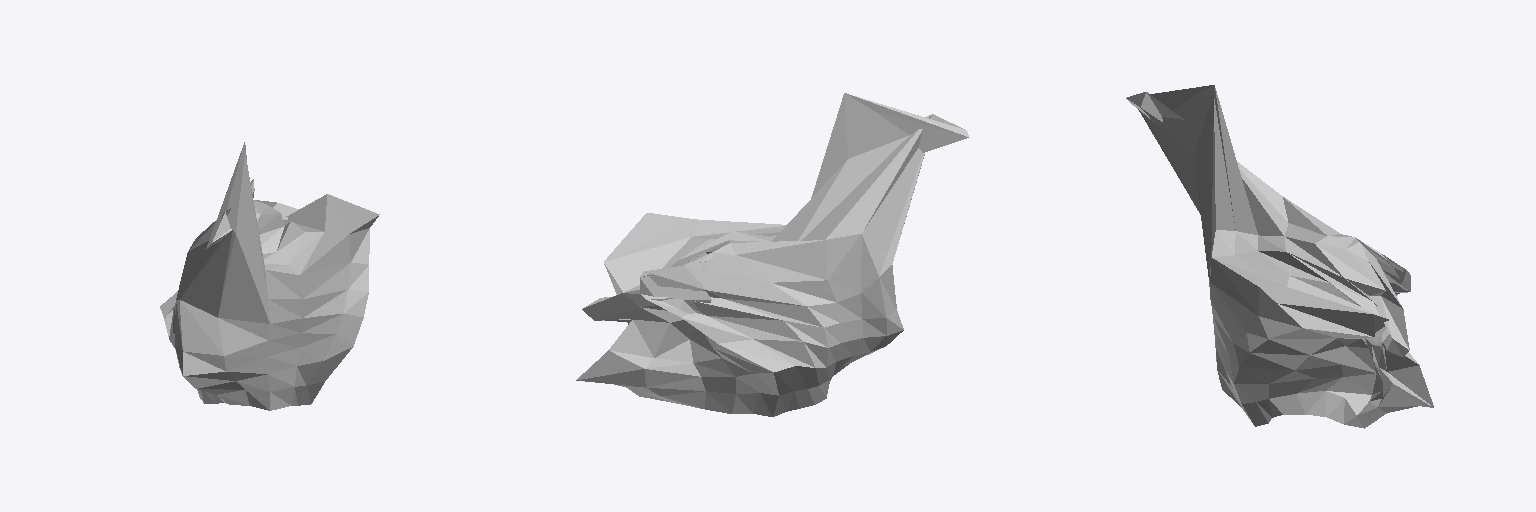
Rendered from canard.obj.
3 views of the same model, side by side, from view 1: azimuth 30°, elevation 25°; view 2: azimuth 150°, elevation 25°; view 3: azimuth 270°, elevation 25° (orthographic).
Parts seen in each view (by area): view 1: Cube; view 2: Cube; view 3: Cube.
Boxes of the visible parts, x1=… form: Cube: x1=160, y1=142, x2=379, y2=410; Cube: x1=576, y1=93, x2=968, y2=416; Cube: x1=1126, y1=85, x2=1433, y2=428.
Bounding box in the file's own units: 3.73 × 4.26 × 3.98.